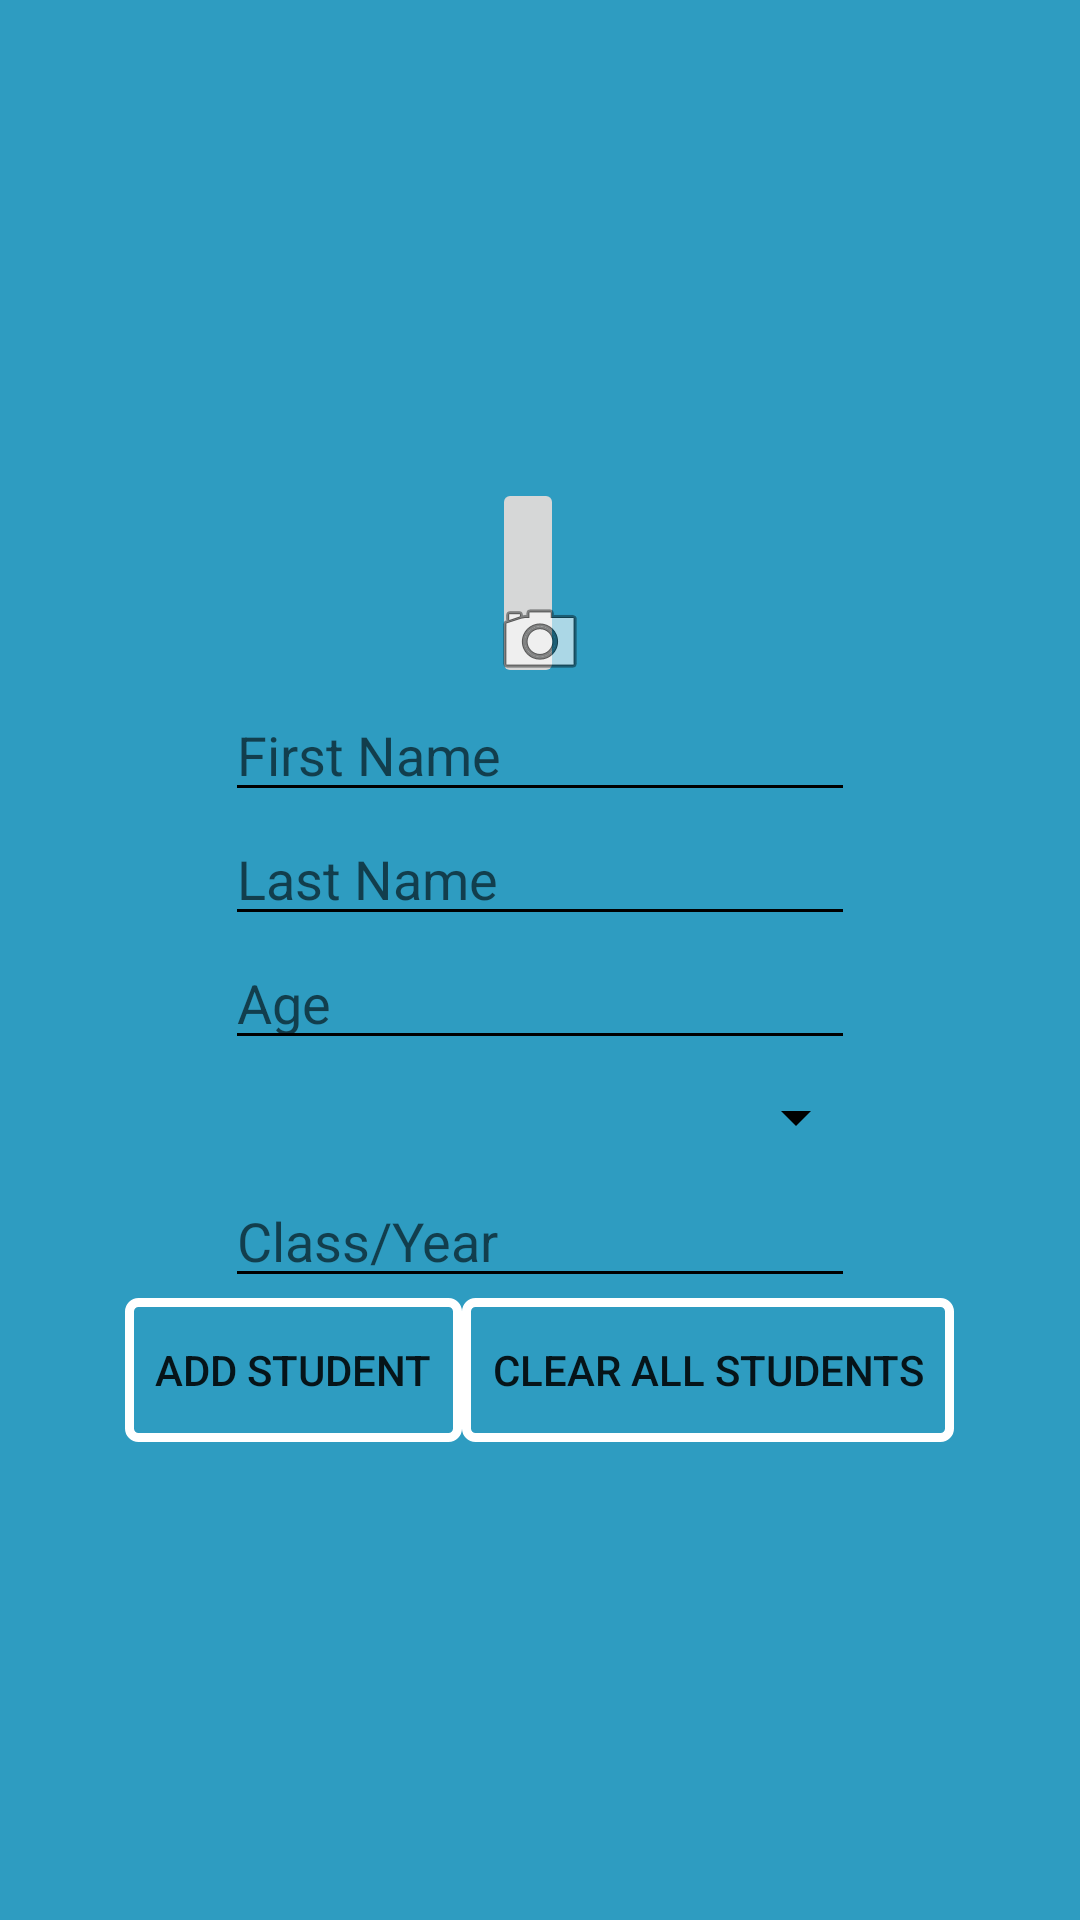

Point at icon controls on the screen. Image size 1080 x 1920, points as point (x, y).
camera: point (540, 631)
